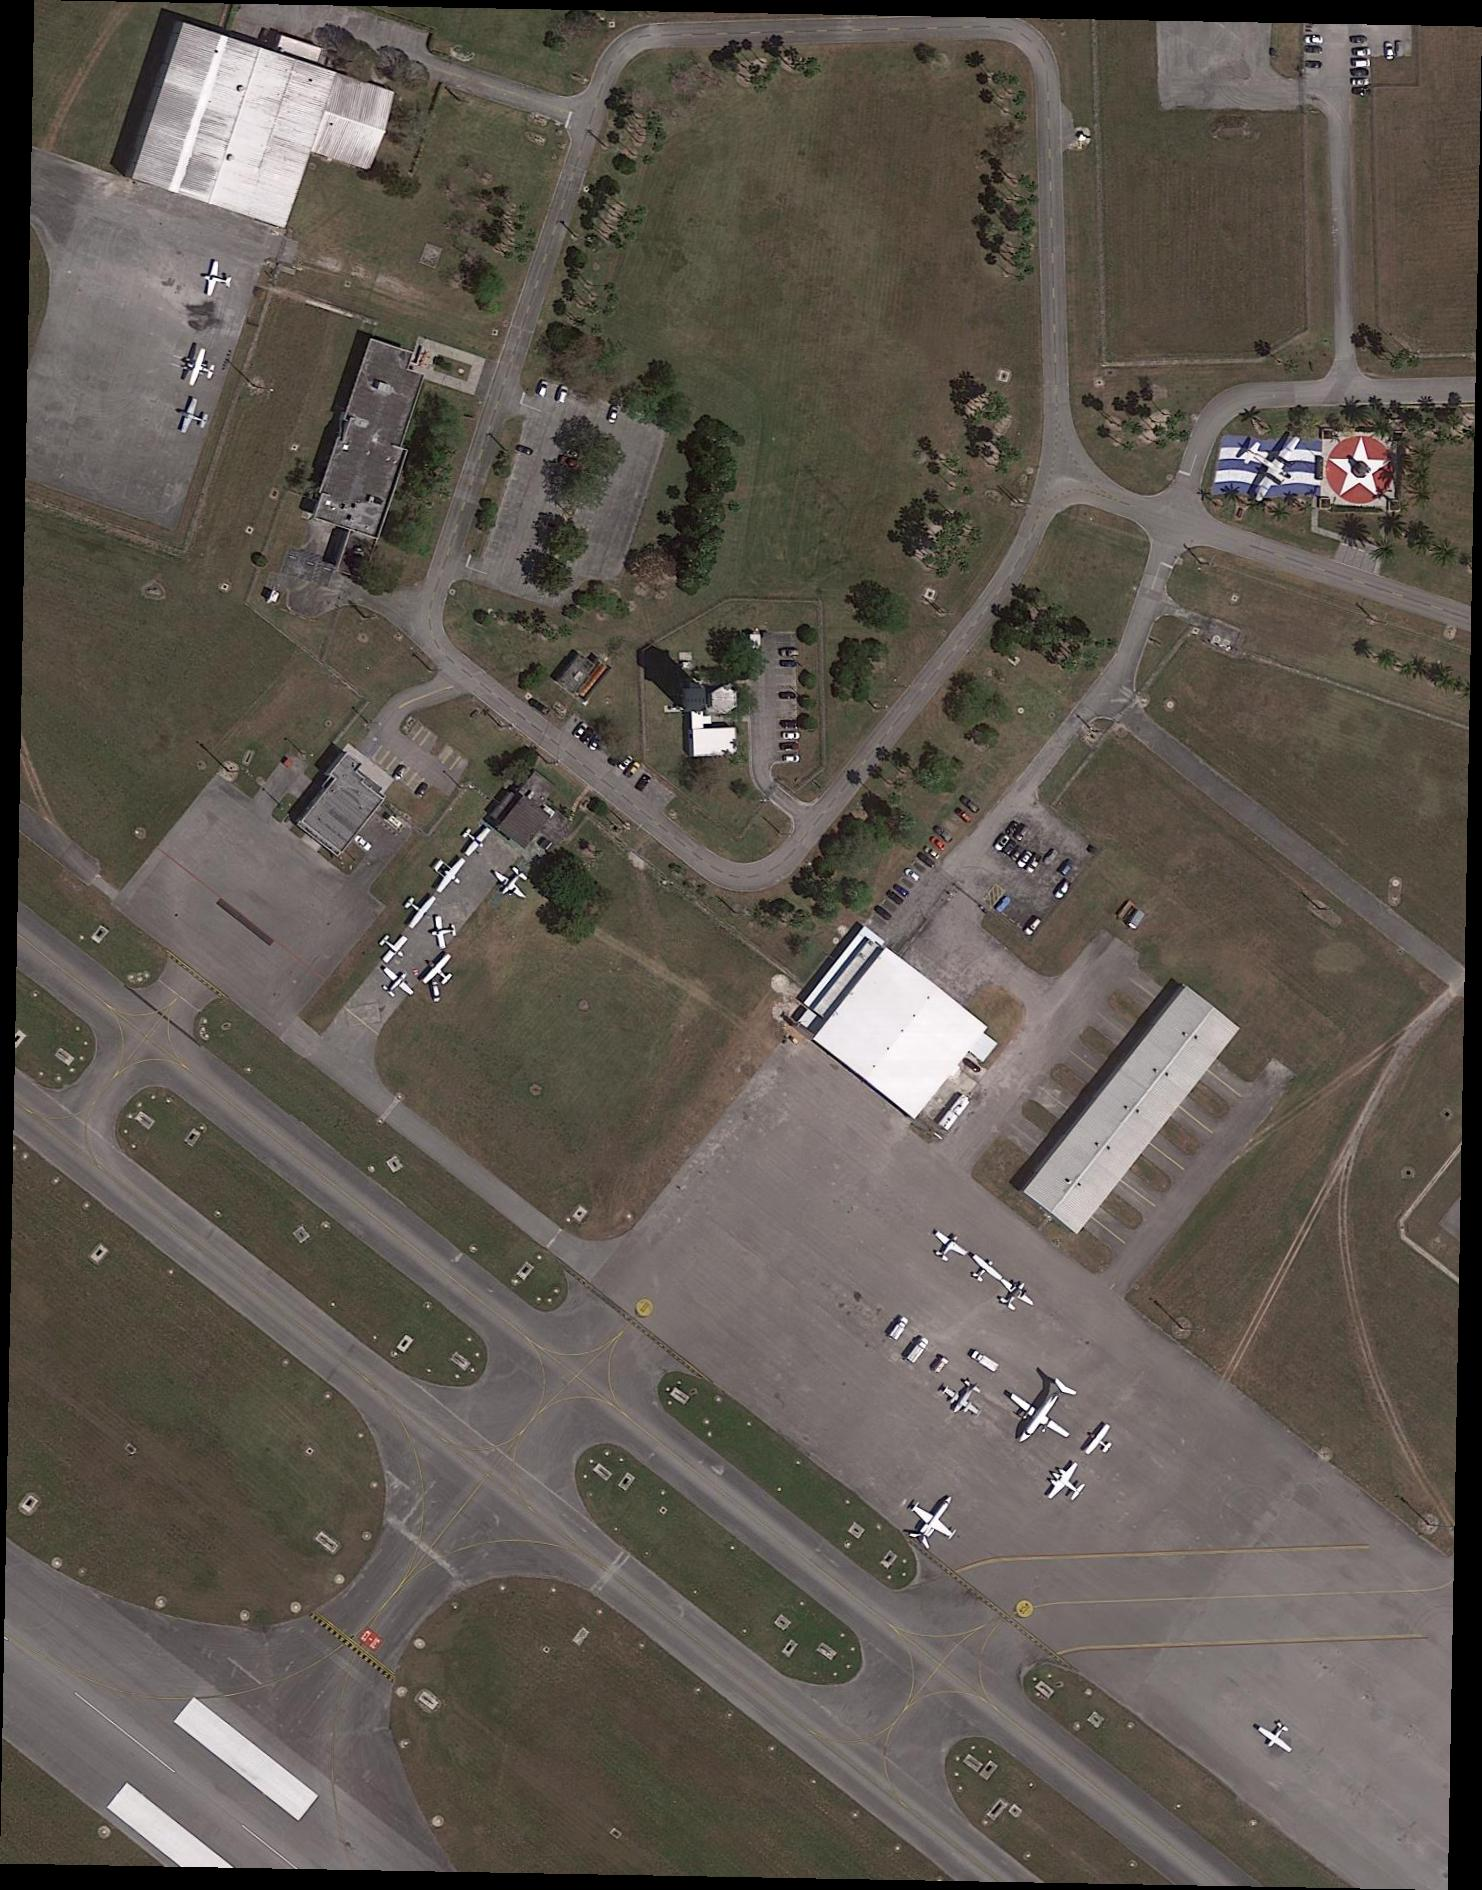plane: (991, 1362, 1092, 1467), (1224, 417, 1310, 509), (899, 1483, 971, 1559), (1036, 1453, 1095, 1514), (934, 1370, 993, 1428), (422, 847, 474, 901), (991, 1272, 1042, 1321), (1253, 1714, 1303, 1763), (488, 859, 537, 908), (394, 884, 442, 934), (374, 960, 420, 1009), (925, 1226, 974, 1272), (416, 947, 462, 994), (169, 394, 213, 442), (1079, 1417, 1121, 1465), (962, 1250, 1006, 1293), (371, 927, 416, 970), (179, 345, 221, 391), (453, 816, 494, 861), (199, 259, 236, 301), (428, 911, 459, 951)
